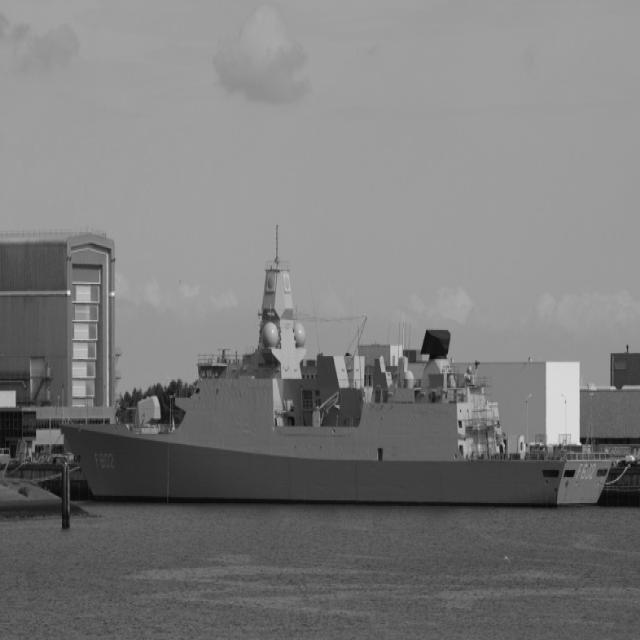Fragata: (59, 229, 621, 517)
